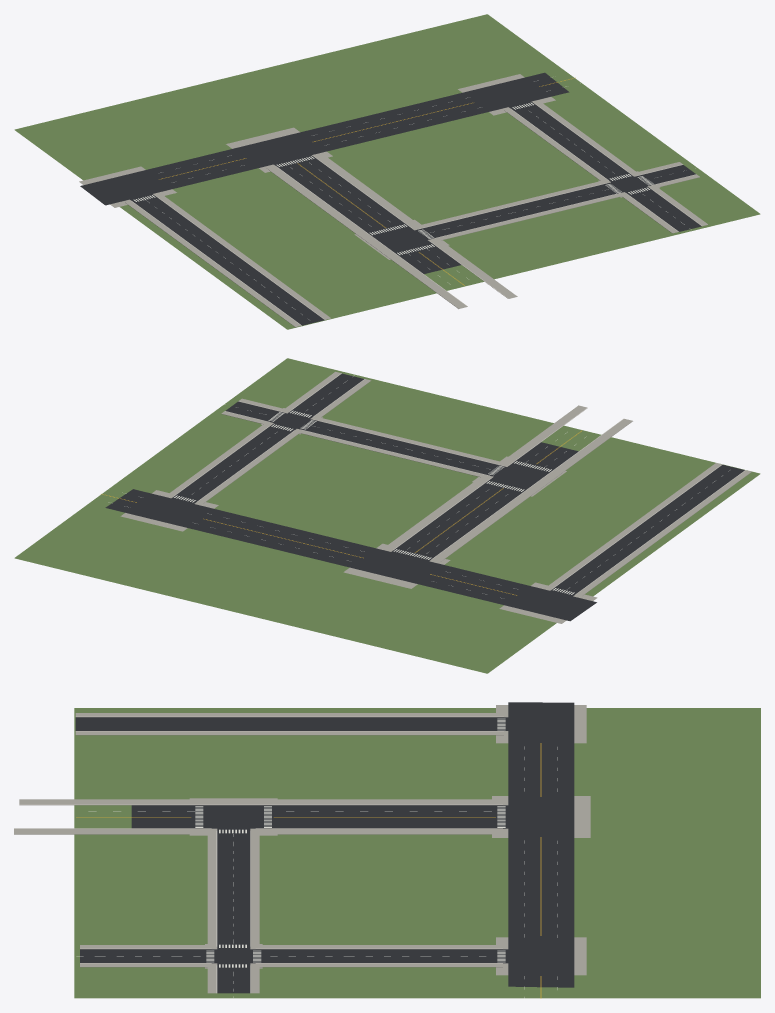
File: Ground_5_7.fbx
3 renders of one model, top to bottom at view 1: azimuth 30°, elevation 25°; view 2: azimuth 150°, elevation 25°; view 3: azimuth 270°, elevation 25°, orthographic. The views are drawn at different scales.
Visible parts, largest first — view 1: Ground_5_7; view 2: Ground_5_7; view 3: Ground_5_7.
Part boxes in pixels (x1,y1,x2,y2): Ground_5_7: [14, 14, 760, 329]; Ground_5_7: [14, 358, 760, 673]; Ground_5_7: [14, 702, 760, 998].
Size of the model in its own units: 256 by 0.14 by 272.
